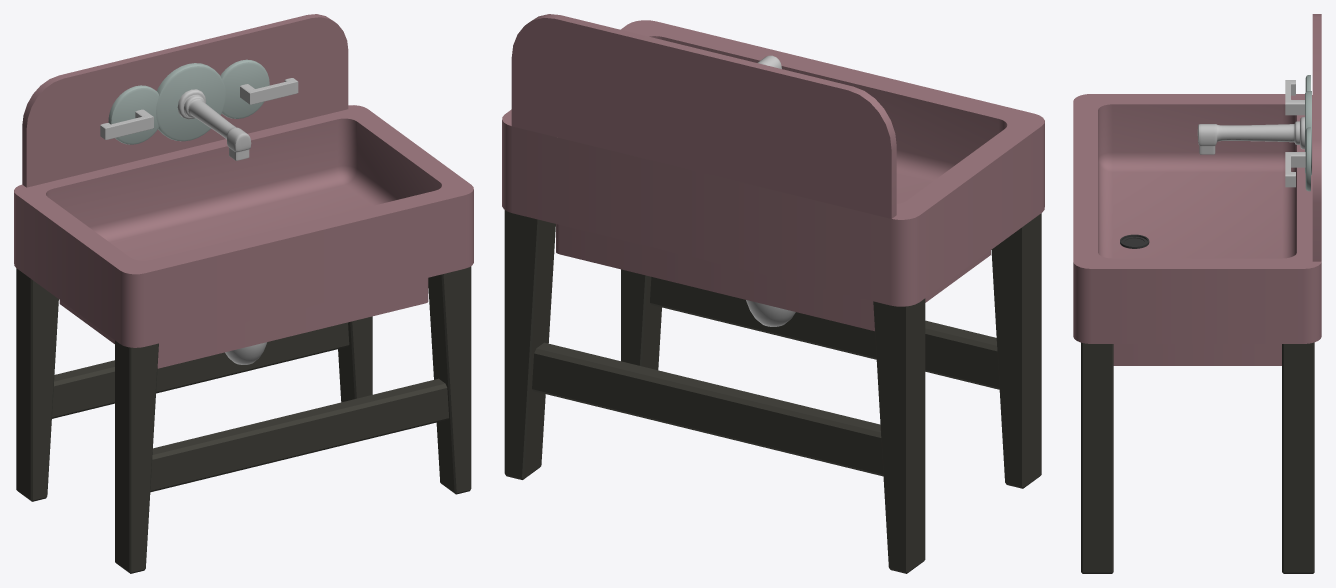
File: Sink.fbx
3 renders of one model, left to right at view 1: azimuth 30°, elevation 25°; view 2: azimuth 150°, elevation 25°; view 3: azimuth 270°, elevation 25°, orthographic. The views are drawn at different scales.
Parts seen in each view (by area): view 1: Cabinet.007, Cabinet.003, Cube.033, Cube.035, Cube.034, Cube.036, Cylinder.003, Cube.032, Cube.030, Cube.031; view 2: Cabinet.007, Cabinet.003, Cube.034, Cube.036, Cube.033, Cube.035, Cylinder.002; view 3: Cabinet.007, Cube.034, Cube.033, Cabinet.003, Cube.032, Cylinder.003, Cube.030, Cube.031, Cylinder.005.
Boxes of the visible parts, <box> form: Cabinet.007: <box>14,105,473,368</box>; Cabinet.003: <box>22,14,348,187</box>; Cube.033: <box>115,266,471,573</box>; Cube.035: <box>150,378,448,492</box>; Cube.034: <box>16,268,372,501</box>; Cube.036: <box>52,322,349,418</box>; Cylinder.003: <box>108,59,269,144</box>; Cube.032: <box>177,89,251,160</box>; Cube.030: <box>240,78,298,104</box>; Cube.031: <box>100,109,153,139</box>; Cabinet.007: <box>502,20,1044,331</box>; Cabinet.003: <box>511,14,896,218</box>; Cube.034: <box>504,210,925,573</box>; Cube.036: <box>532,342,883,476</box>; Cube.033: <box>621,213,1041,488</box>; Cube.035: <box>650,277,999,389</box>; Cylinder.002: <box>746,300,795,326</box>; Cabinet.007: <box>1073,94,1321,365</box>; Cube.034: <box>1282,342,1314,573</box>; Cube.033: <box>1081,342,1113,573</box>; Cabinet.003: <box>1312,14,1321,261</box>; Cube.032: <box>1197,117,1304,154</box>; Cylinder.003: <box>1305,75,1311,191</box>; Cube.030: <box>1285,152,1305,187</box>; Cube.031: <box>1285,80,1304,115</box>; Cylinder.005: <box>1120,234,1149,248</box>.
Size of the model in its own units: 100 by 109 by 60.
